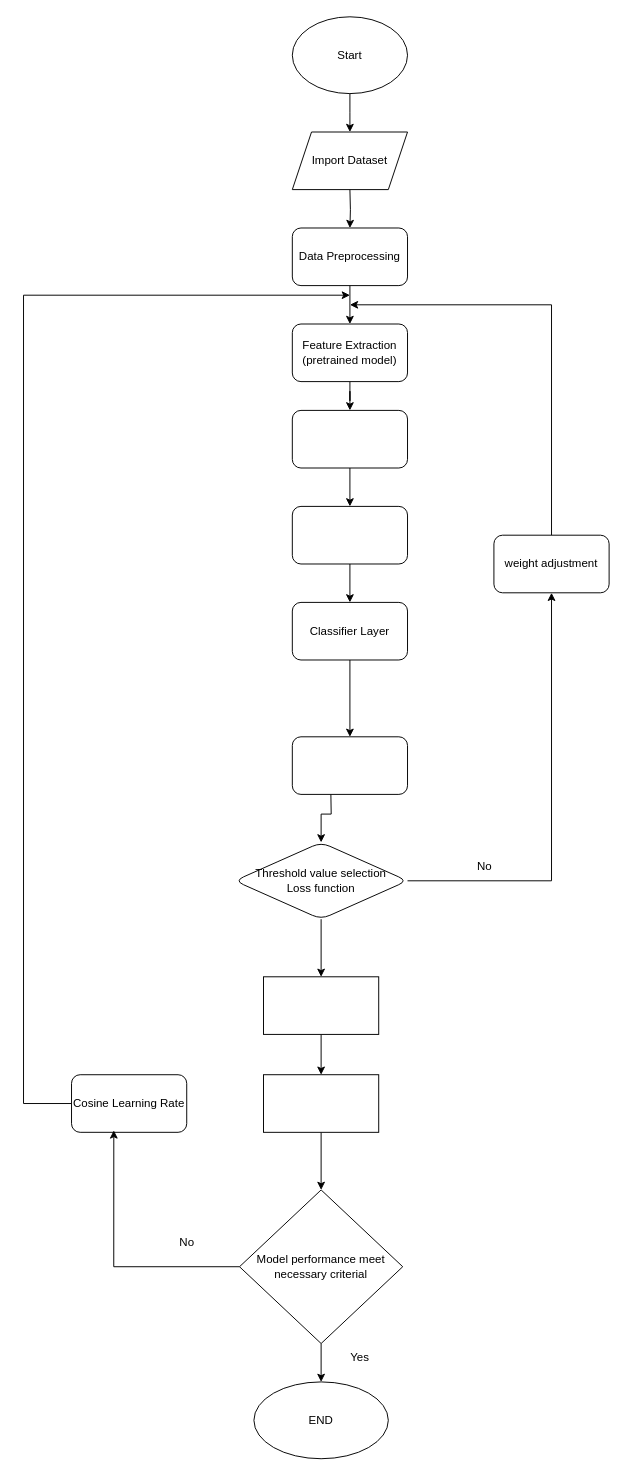
This 626x1476 diagram has some shape labels left out. Here are the shapes that lost their labels. From the top down, the centre of each, then its label:
At point 349,438: "Hidden Layer".
At point 349,534: "Dropout".
At point 349,765: "Output Predictions".
At point 321,1005: "Model Prediction".
At point 321,1103: "Model Evalutation".
